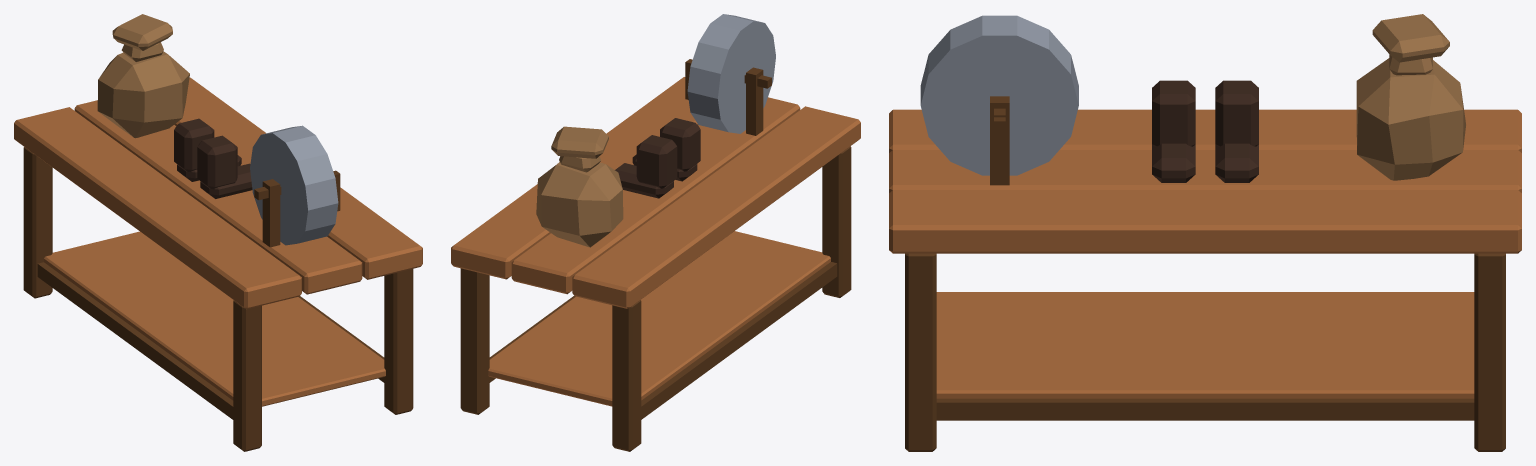
Rendered from UpgradeBench.fbx.
3 views of the same model, side by side, from view 1: azimuth 30°, elevation 25°; view 2: azimuth 150°, elevation 25°; view 3: azimuth 270°, elevation 25° (orthographic). The views are drawn at different scales.
Visible parts, largest first — view 1: Top, Leg, Sack, Grinder, Boot; view 2: Top, Leg, Sack, Grinder, Boot; view 3: Top, Leg, Grinder, Sack, Boot.
Boxes of the visible parts, x1,y1,x2,y2 form: Top: [14, 77, 422, 406]; Leg: [23, 147, 413, 451]; Sack: [97, 14, 189, 138]; Grinder: [250, 125, 338, 245]; Boot: [174, 118, 252, 198]; Top: [451, 77, 860, 406]; Leg: [460, 59, 851, 451]; Sack: [536, 126, 623, 247]; Grinder: [687, 14, 775, 133]; Boot: [615, 118, 700, 198]; Top: [889, 109, 1521, 398]; Leg: [905, 96, 1505, 451]; Grinder: [920, 15, 1078, 175]; Sack: [1356, 14, 1465, 180]; Boot: [1152, 80, 1258, 182].
Size of the model in its own units: 3.55 by 5.17 by 8.
